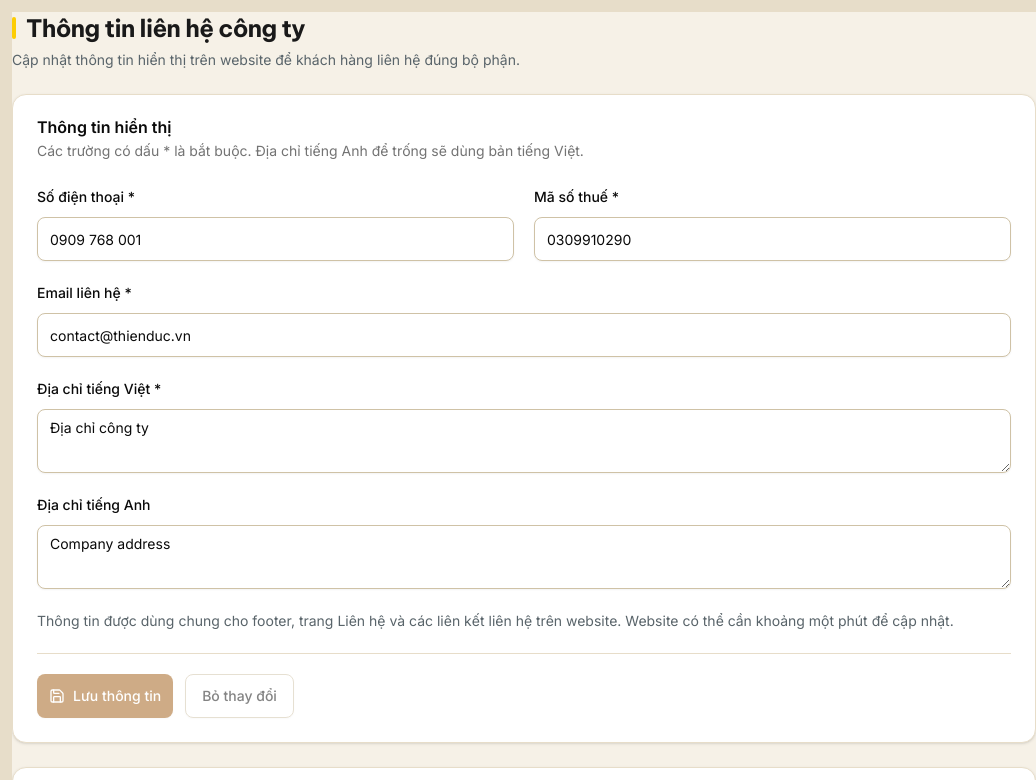
Test: Quản lý thông tin liên hệ công ty › lưu lỗi giữ nội dung để thử lại, bỏ thay đổi trả về dữ liệu đã lưu
Replace the text in the text box labelled "Địa chỉ tiếng Việt *" with "Địa chỉ đang sửa": (524, 441) [37,409,1011,473]
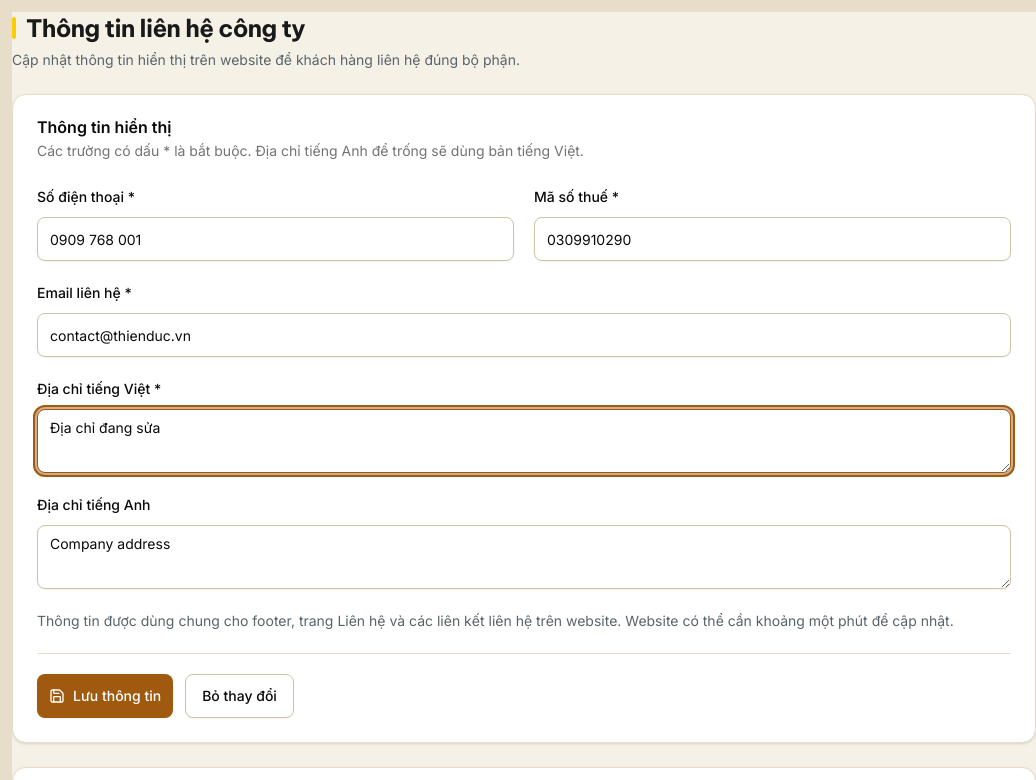
Click the button "Lưu thông tin": (105, 696) [37,674,173,718]
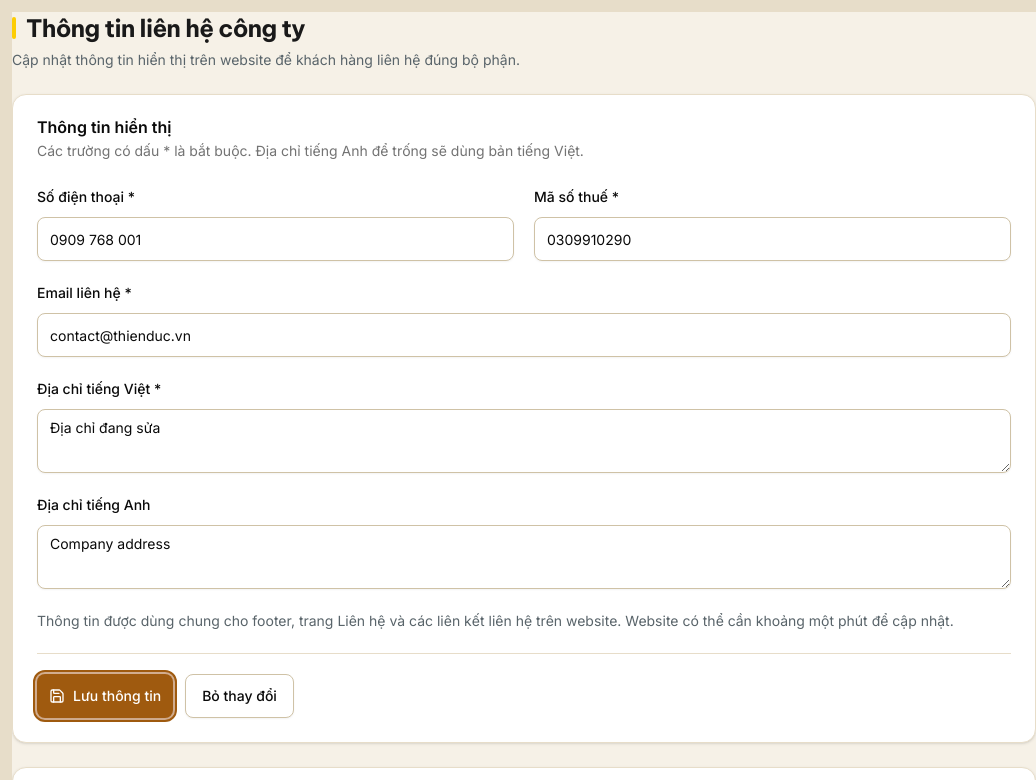
Click the button "Bỏ thay đổi": (240, 696) [185,674,294,718]
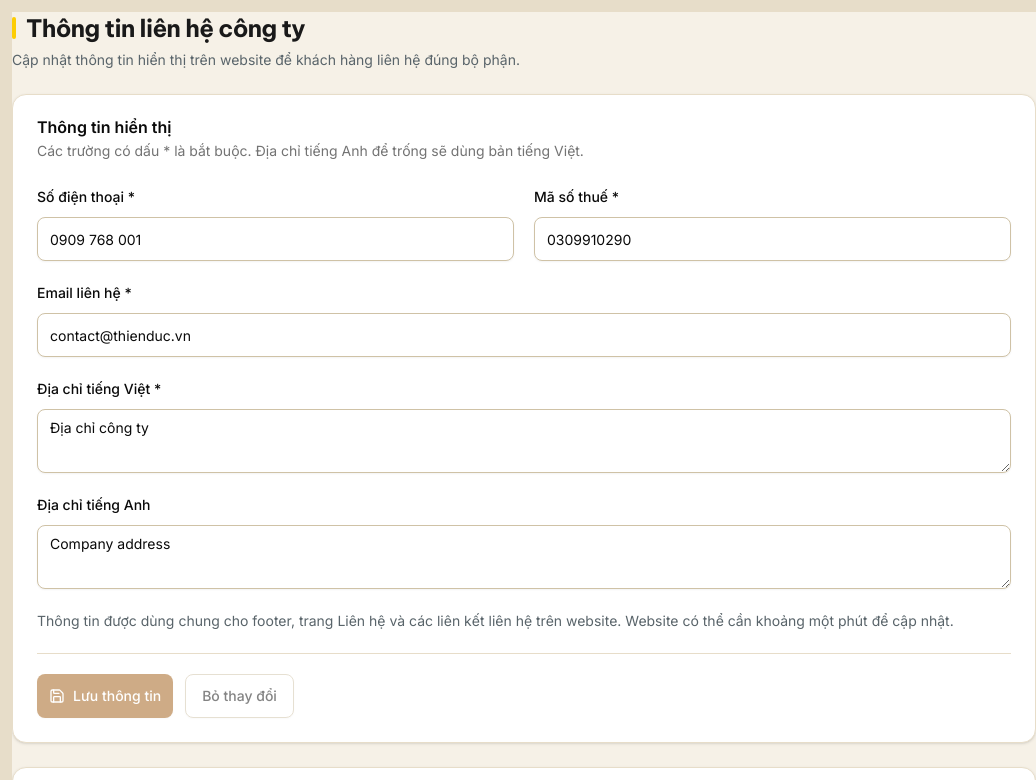
Check: the text box labelled "Địa chỉ tiếng Việt *" holds "Địa chỉ công ty", box [37,409,1011,473]
